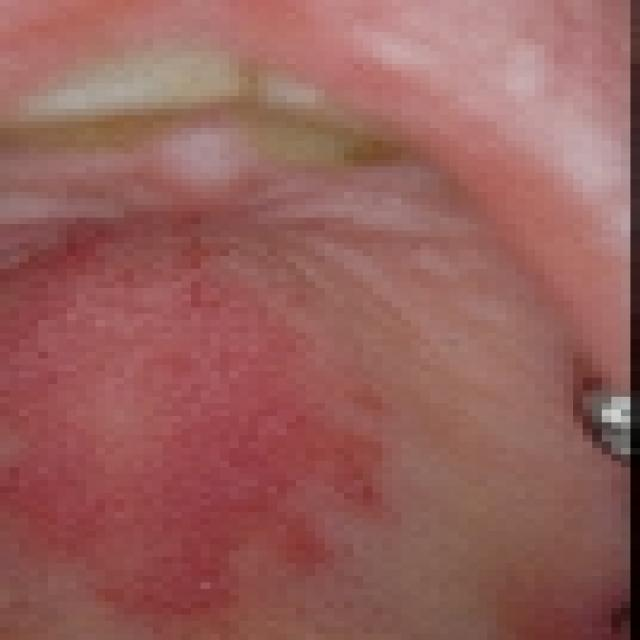lupus: (7, 199, 442, 629)
